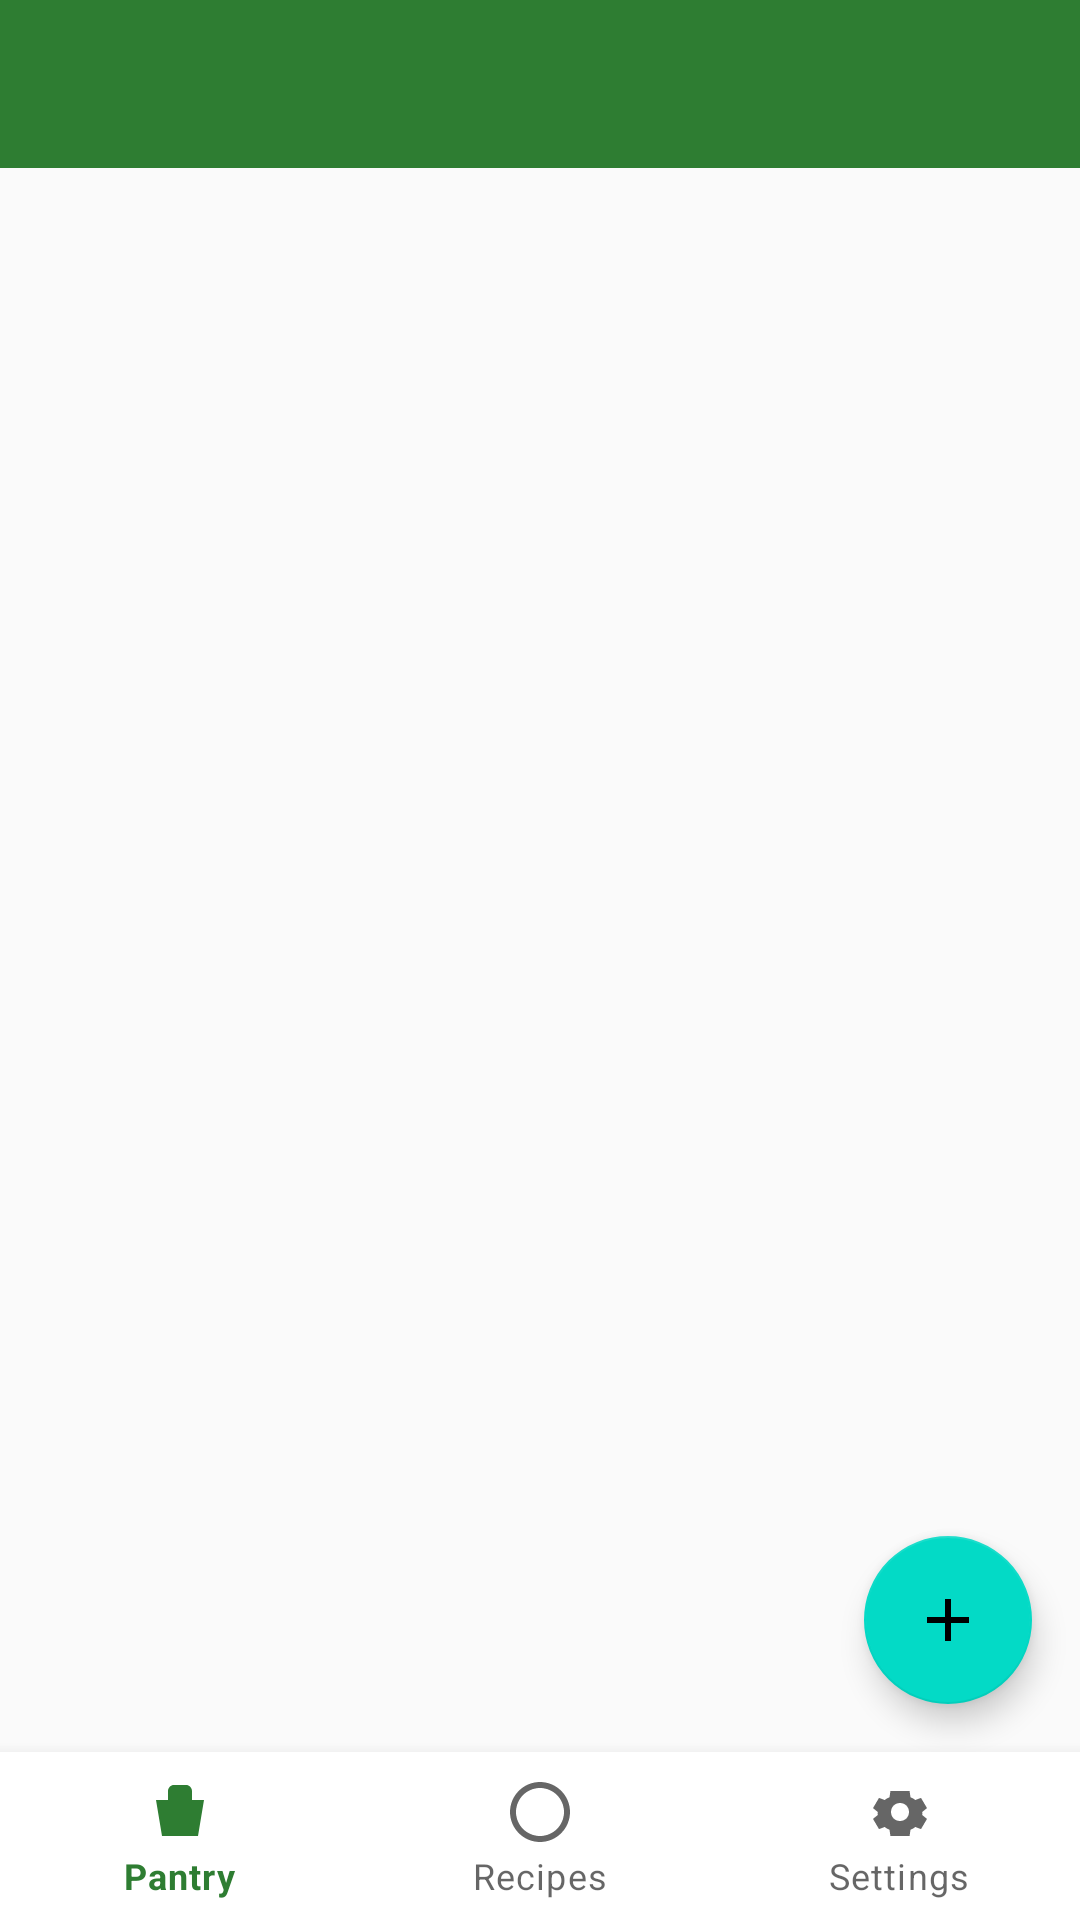

Icon bounding boxes for this 1080×1920 phone screenshot, format (x1, y1, x2, y2):
Add Ingredient: (864, 1536, 1032, 1704)
